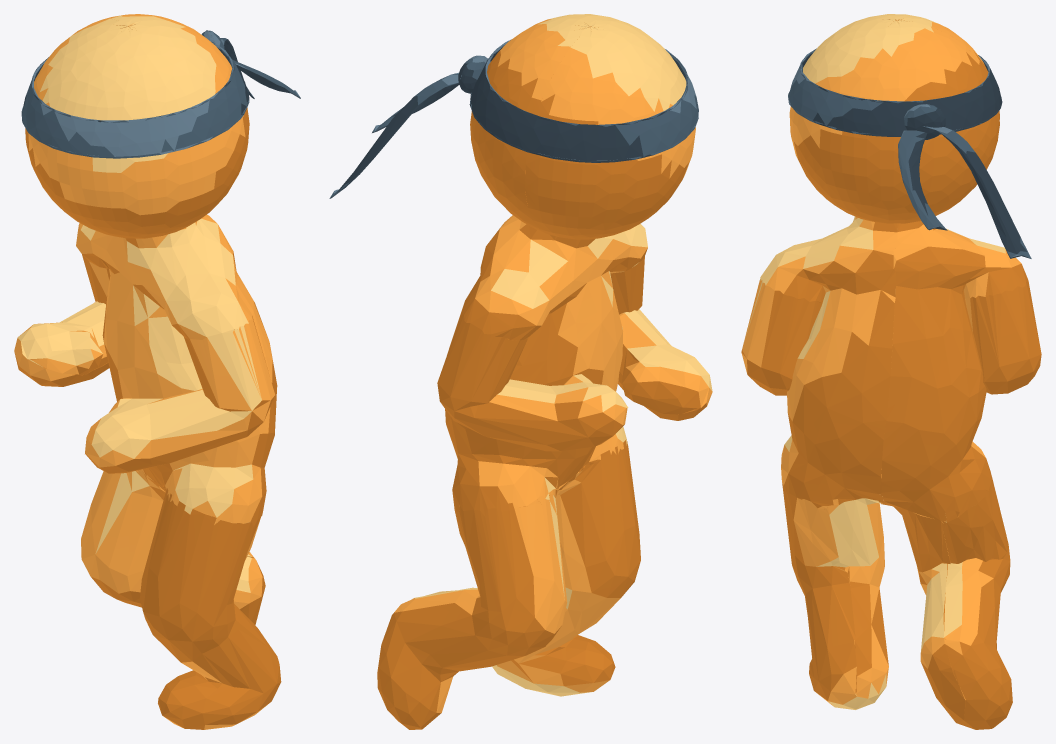
The model's file is Ninja_Jog3_L.gltf.
3 views of the same model, side by side, from view 1: azimuth 30°, elevation 25°; view 2: azimuth 150°, elevation 25°; view 3: azimuth 270°, elevation 25° (orthographic). The views are drawn at different scales.
Parts seen in each view (by area): view 1: Ninja_Jog3_L_baked; view 2: Ninja_Jog3_L_baked; view 3: Ninja_Jog3_L_baked.
Boxes of the visible parts, <box> form: Ninja_Jog3_L_baked: <box>14,14,300,729</box>; Ninja_Jog3_L_baked: <box>329,14,712,729</box>; Ninja_Jog3_L_baked: <box>741,14,1041,729</box>.
Size of the model in its own units: 0.4256 by 1 by 0.4183.
